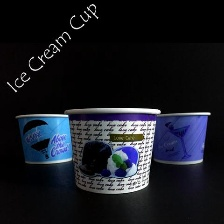paper_cup: (60, 102, 164, 198), (144, 108, 214, 168), (13, 109, 81, 169)
